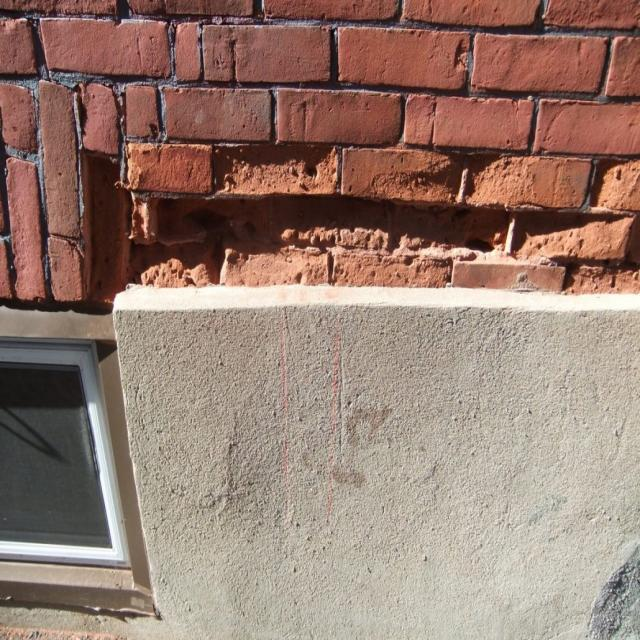Spalling: (106, 142, 639, 295), (594, 549, 639, 638)
